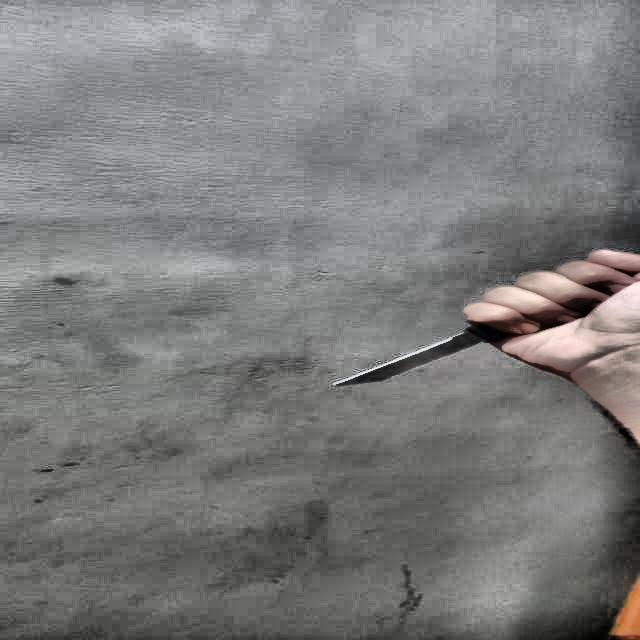knife: (334, 327, 520, 388)
